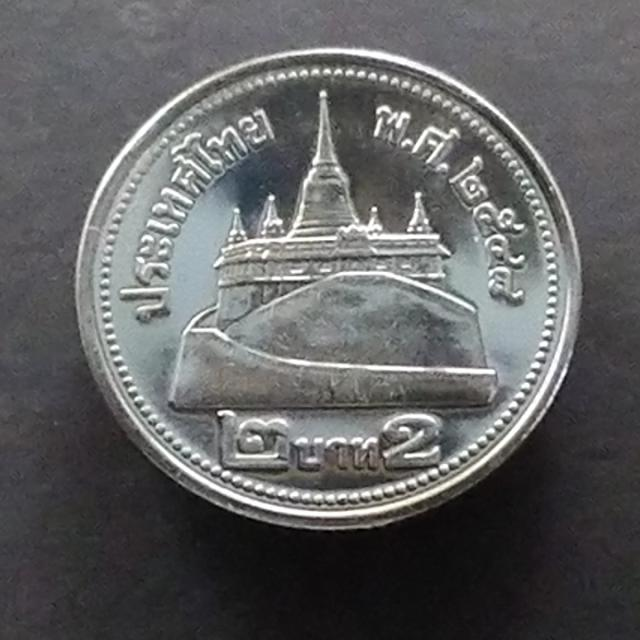2 Bath: (74, 46, 588, 536)
